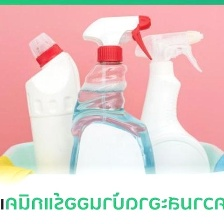cleaning_solution: (65, 11, 155, 218), (126, 27, 214, 219), (20, 30, 96, 222)
